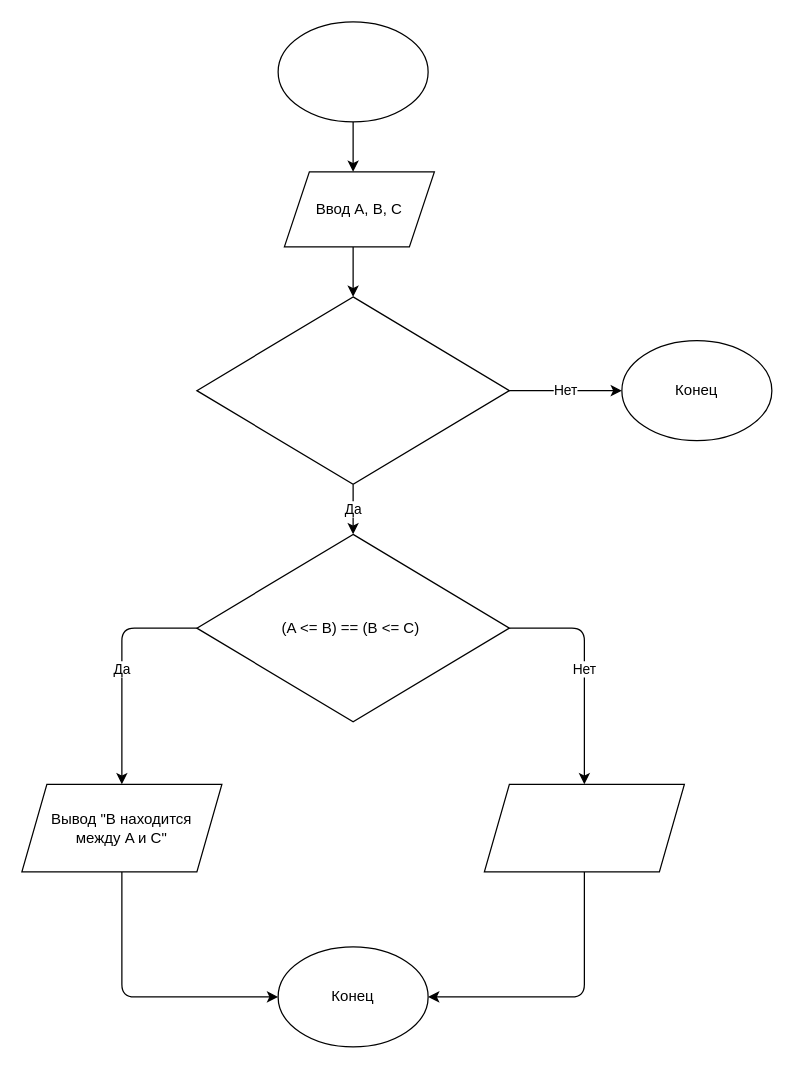
This 794x1069 diagram has some shape labels left out. The shapes that lost their labels are listed below. From the top down, each one's centre as x and y in pixels, then its label:
point 352,71: Начало
point 352,390: Являются ли A, B, C целыми числами
point 583,827: Вывод "B не находится между A и С"
